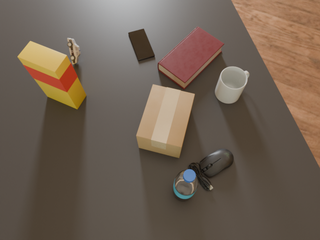book: (158, 27, 224, 89)
bottle: (173, 169, 198, 201)
box: (18, 41, 86, 109), (136, 85, 195, 158)
cup: (215, 67, 249, 103)
mouse: (189, 149, 233, 190)
phone: (128, 29, 155, 60)
toy_car: (67, 38, 80, 64)
